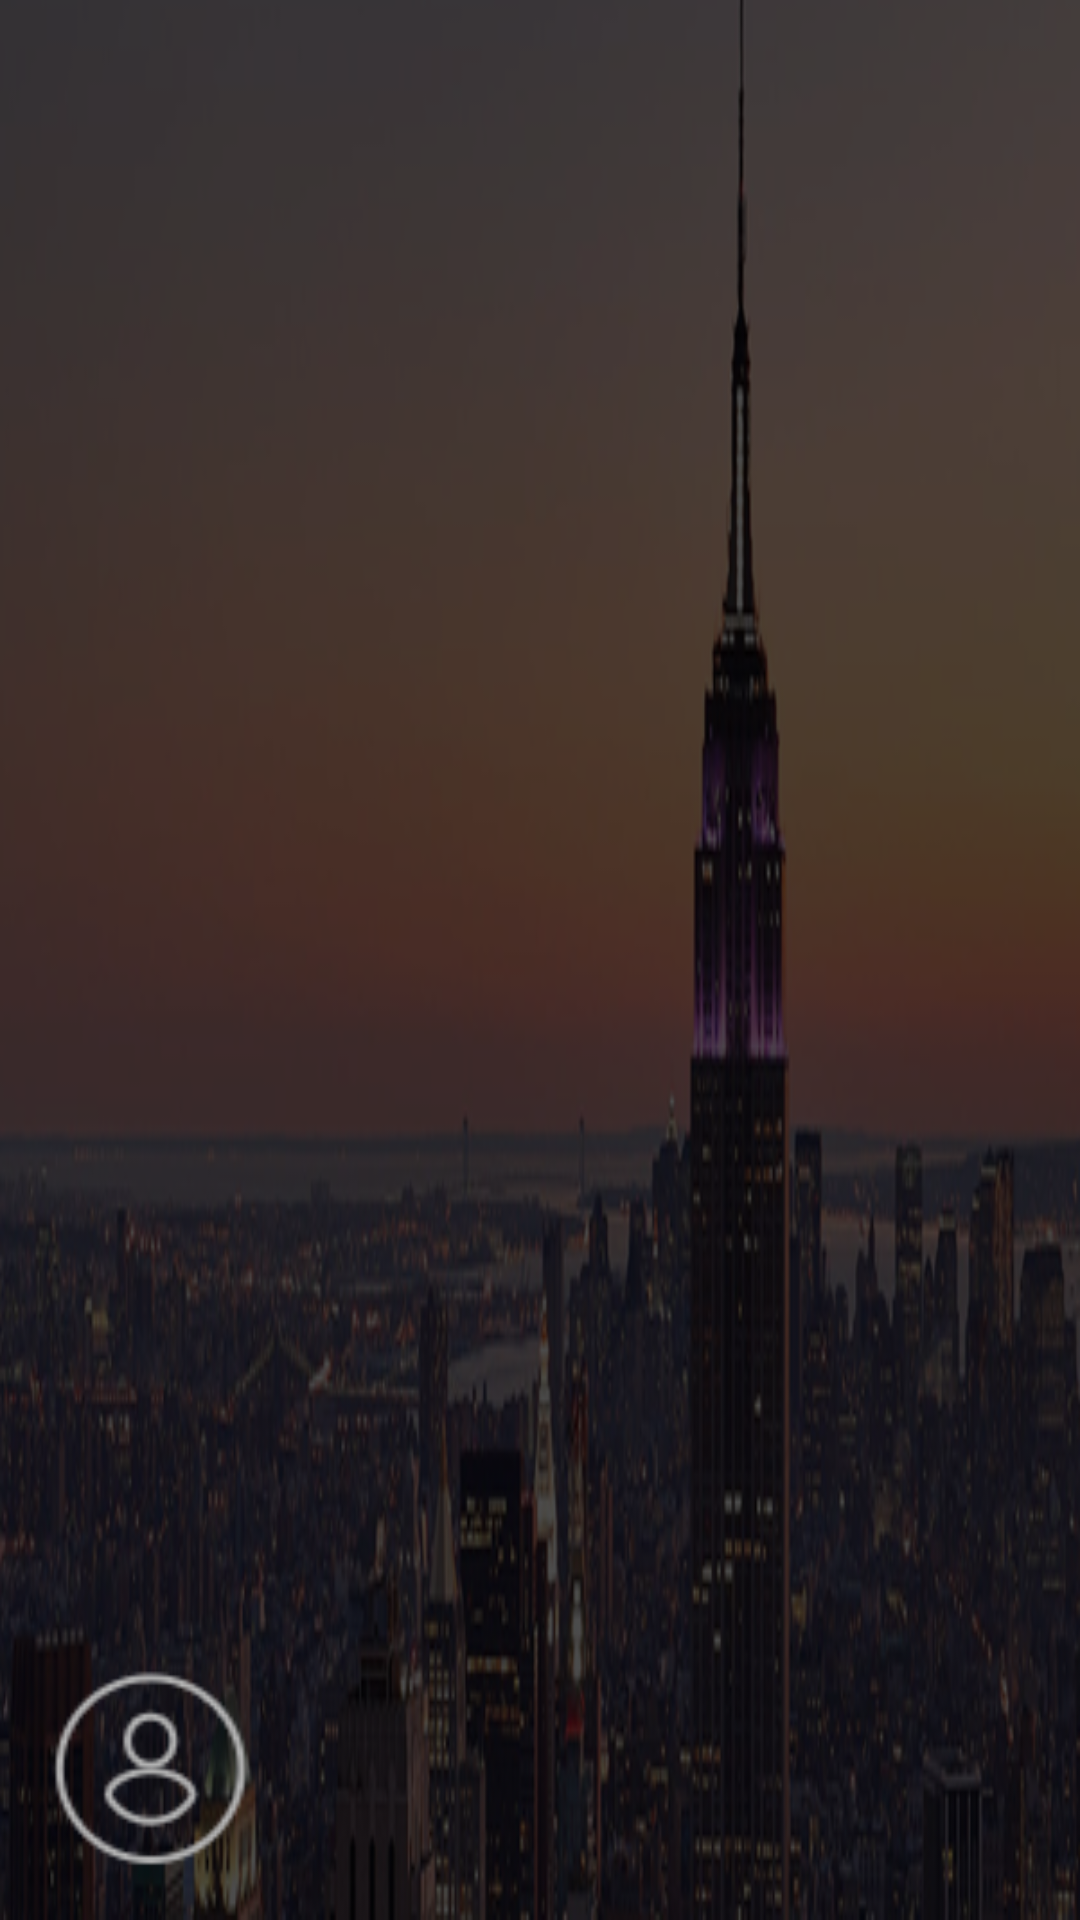

Where icons sit on this 1080 x 1920 app screen, as box(x1, y1, x2, y2):
profile: box(30, 1650, 270, 1890)
